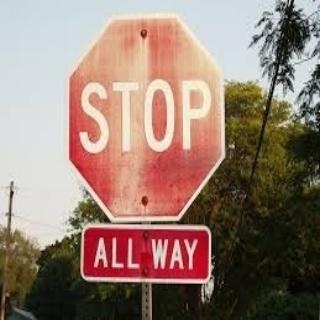sign_stop: (67, 13, 225, 224)
